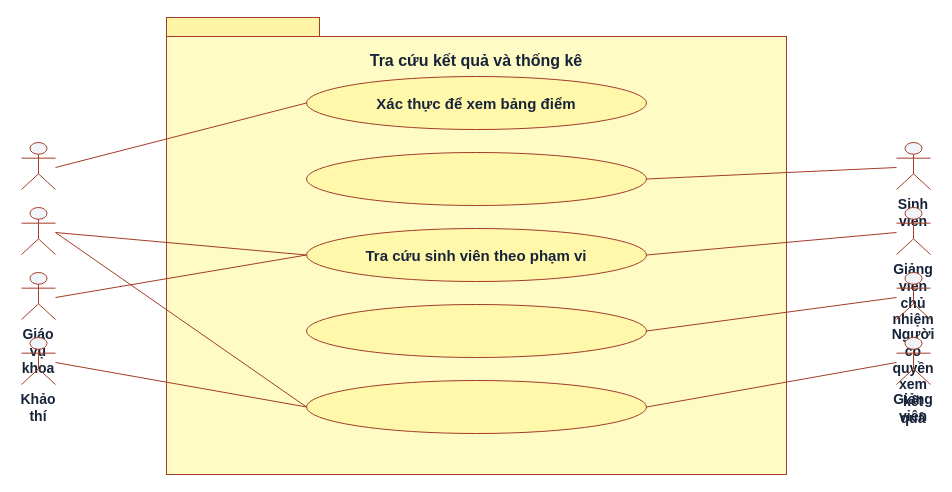
Image size: 952x492. Some labels were removed from this diagram. Each missing label, with the centre of its shape:
"Người tra cứu chưa đăng nhập" belongs at pixel 38 166.
"Quản trị viên" belongs at pixel 38 230.
"Xem bảng điểm cá nhân" belongs at pixel 476 179.
"Xem thống kê và báo cáo" belongs at pixel 476 407.
"Xem tổng kết và tiến độ tốt nghiệp" belongs at pixel 476 331.
